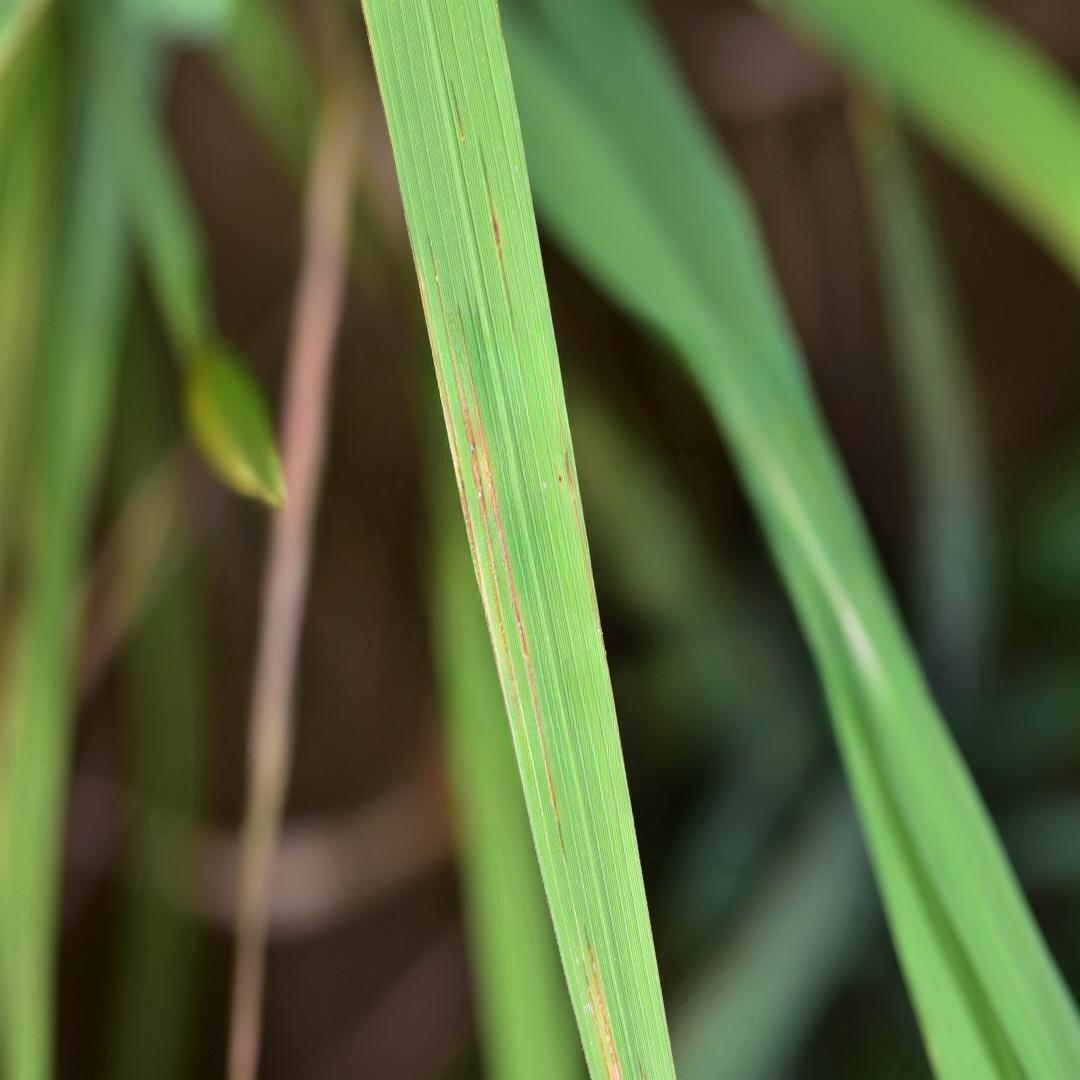BLS: (455, 309, 566, 864), (435, 261, 533, 775), (415, 252, 494, 643), (556, 411, 611, 689), (478, 141, 516, 339), (584, 928, 623, 1079), (583, 964, 614, 1079), (450, 82, 466, 149)
LEAF: (362, 0, 674, 1079)
